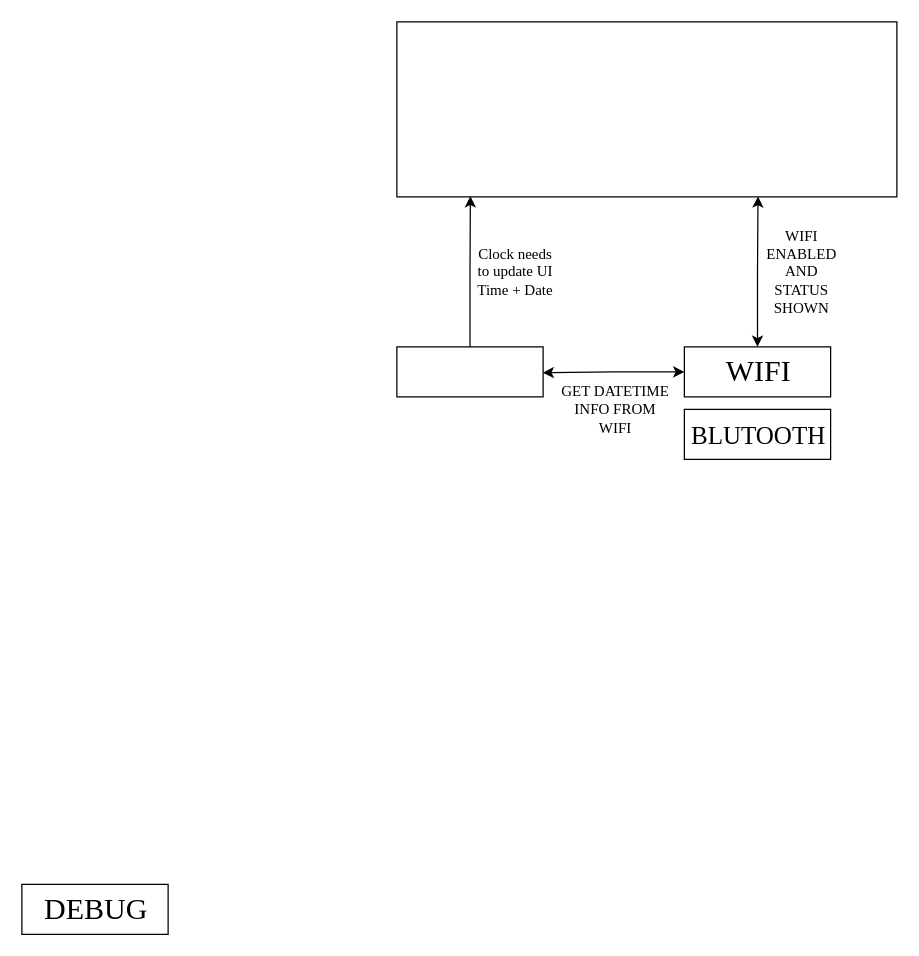
The diagram is 919 pixels wide and 956 high, and some of its shapes have lost their labels. The centre of each missing label's shape, as x and y in pixels:
CLOCK: point (469, 371)
UI: point (646, 109)
